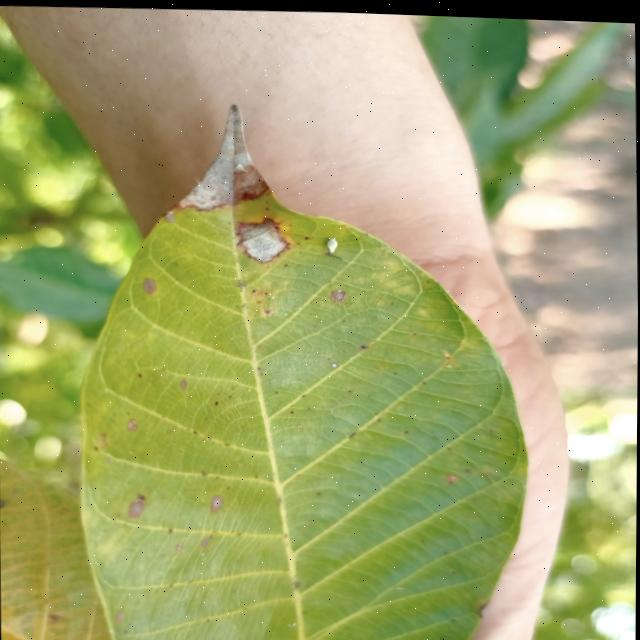Colletotrichum: (332, 360, 337, 364), (360, 342, 365, 346), (299, 421, 303, 425), (215, 399, 219, 403), (284, 261, 288, 264), (290, 409, 294, 411), (252, 287, 255, 289), (265, 290, 268, 292)
Leaf-Blight: (178, 99, 269, 210), (243, 220, 286, 260)
